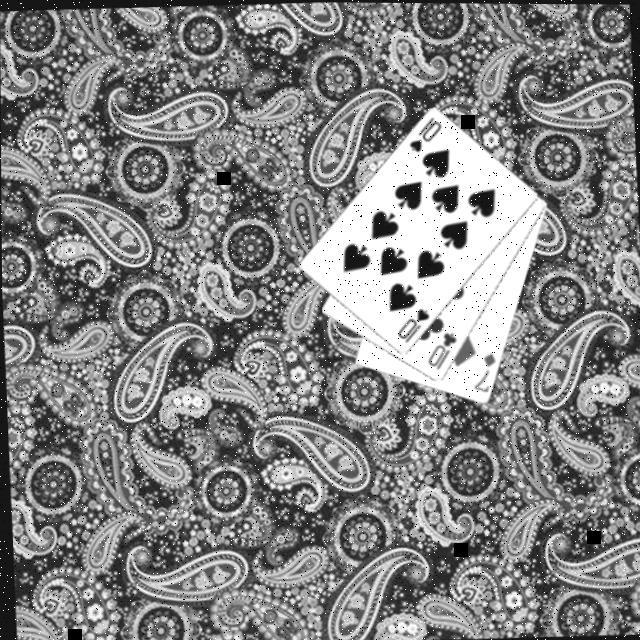10C: (424, 328, 461, 372)
10S: (406, 111, 446, 154), (392, 303, 433, 344)
7D: (468, 347, 499, 394)
